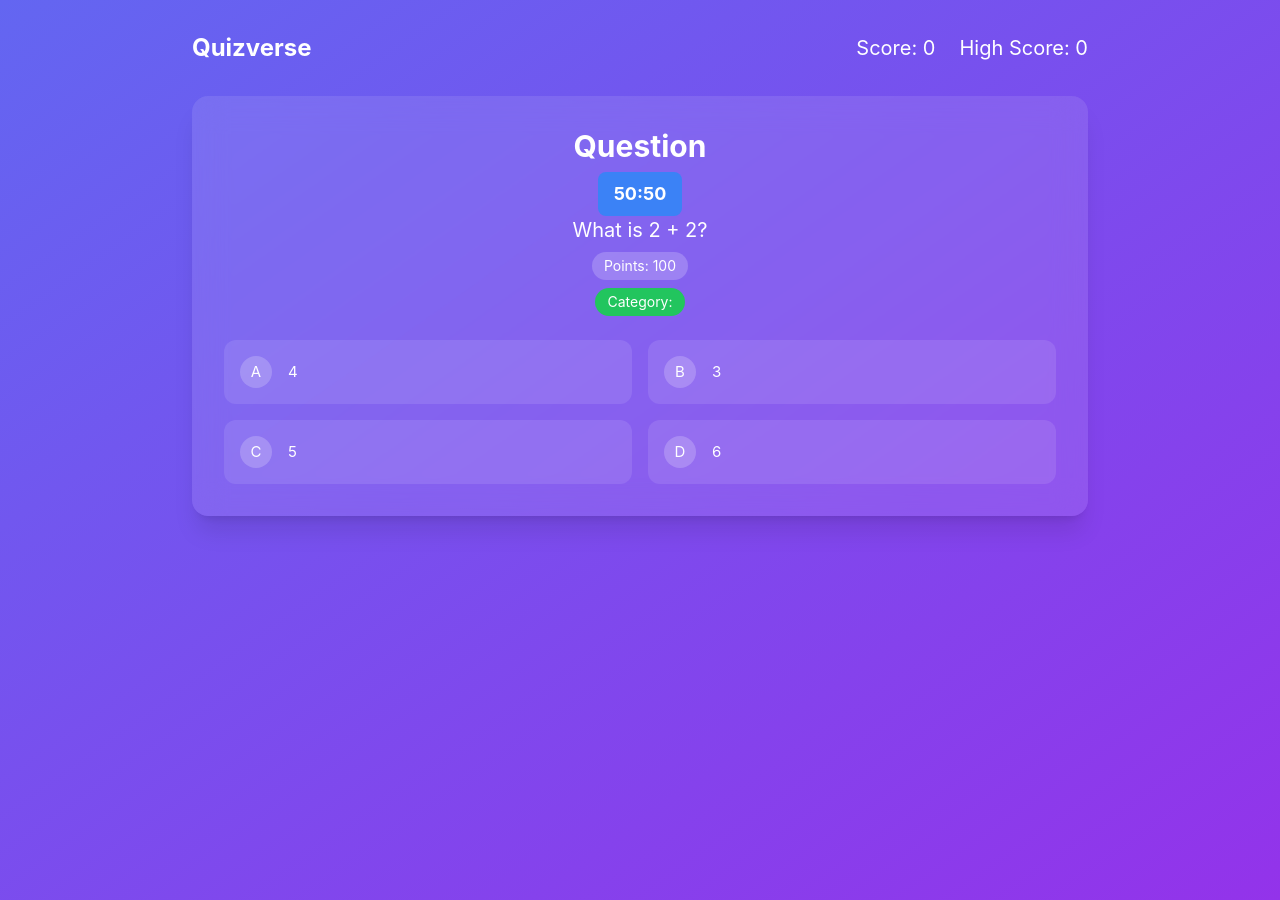
Scenario: QuizGame › disables answers while loading next question
Click the button "A 4" at coordinates (256, 372), box [224, 340, 632, 404]
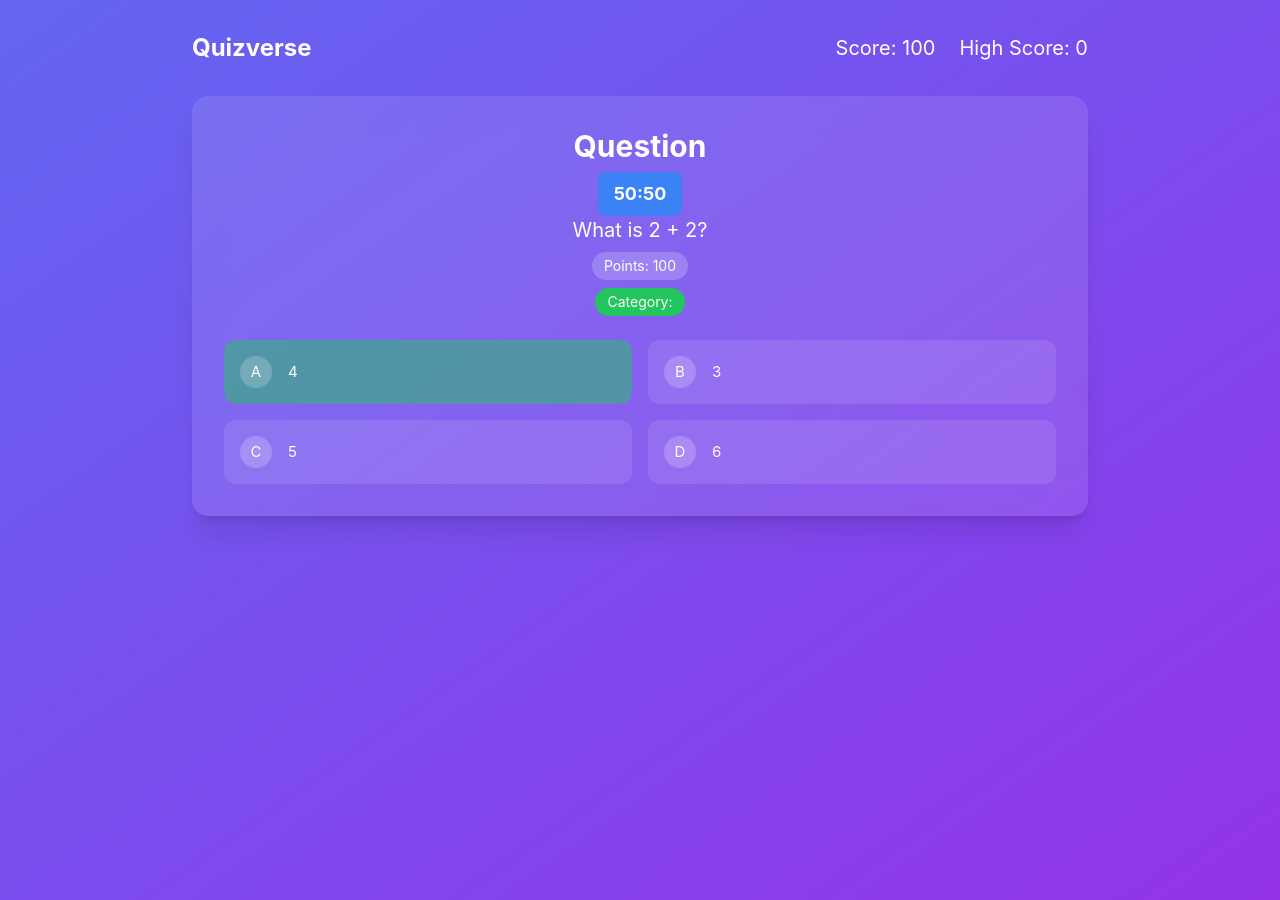
Expected: the button "B 3" is disabled, [648, 340, 1056, 404]
Result: the button "A 4" is disabled at [224, 340, 632, 404]
